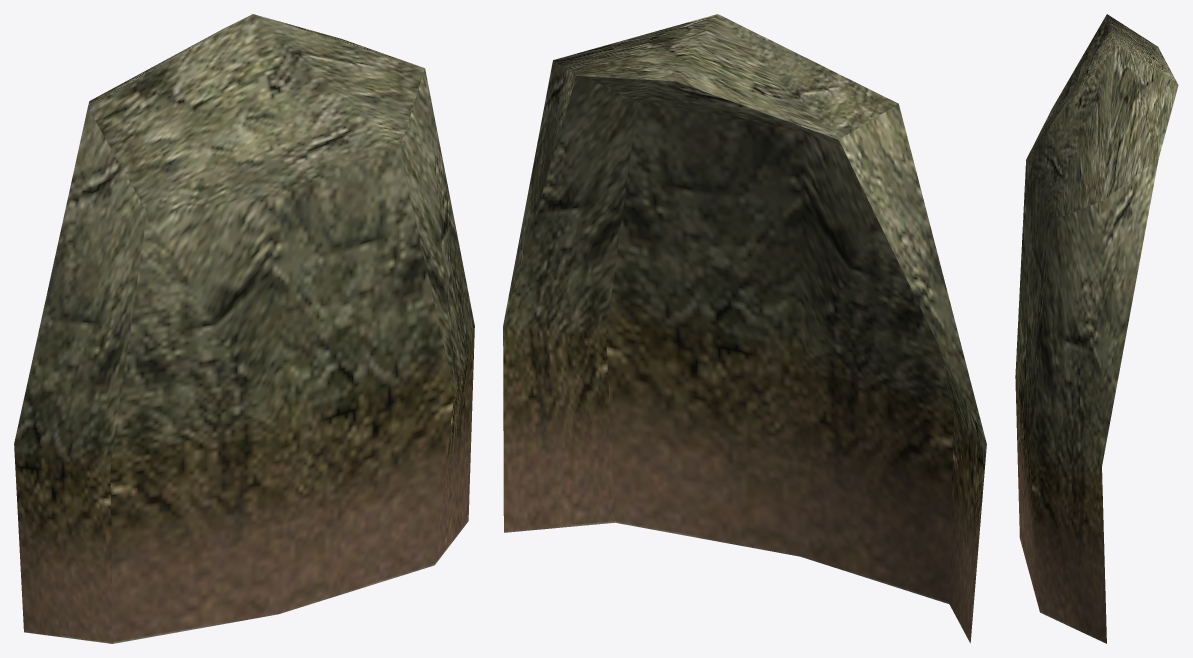
File: nast1.dae
3 renders of one model, left to right at view 1: azimuth 30°, elevation 25°; view 2: azimuth 150°, elevation 25°; view 3: azimuth 270°, elevation 25°, orthographic. The views are drawn at different scales.
Visible parts, largest first — view 1: rock00; view 2: rock00; view 3: rock00.
Part boxes in pixels (box(x1,y1,x2,y2)): rock00: box(14, 14, 474, 643); rock00: box(503, 14, 986, 643); rock00: box(1015, 14, 1178, 643).
Size of the model in its own units: 2.57 by 0.8611 by 2.94.
1 material, 1 textured.
